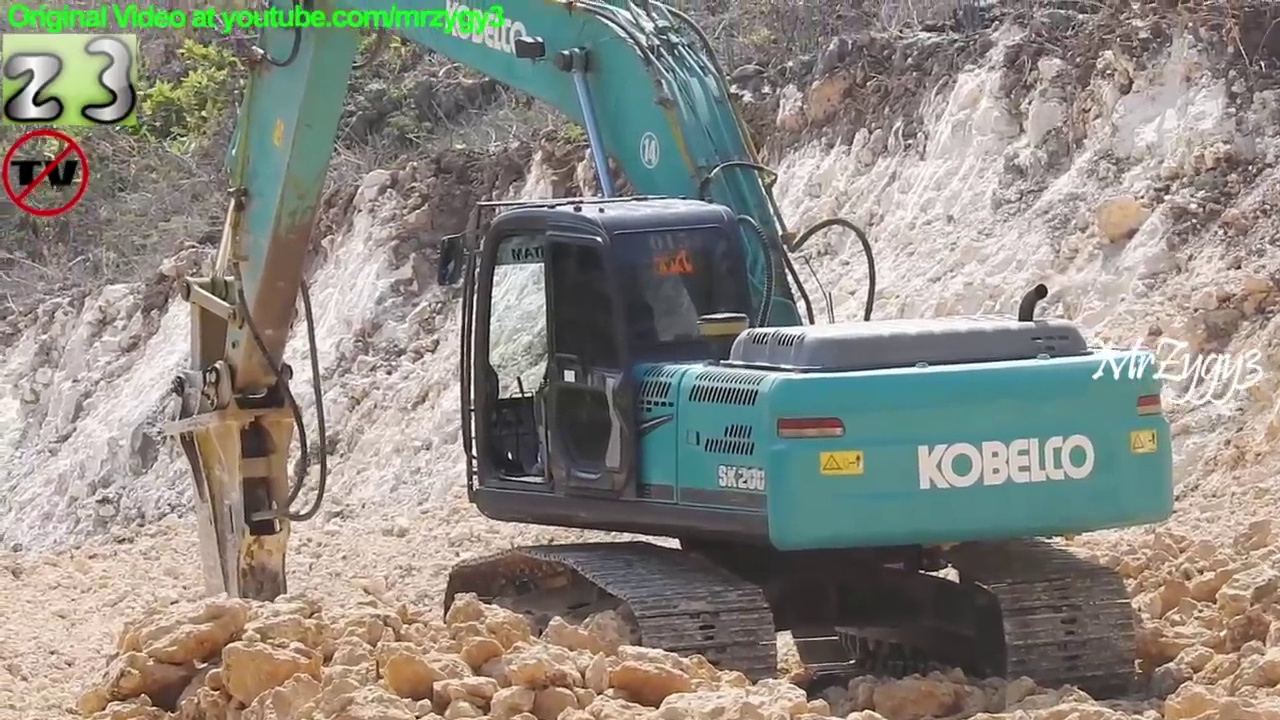excavator: (159, 1, 1185, 712)
